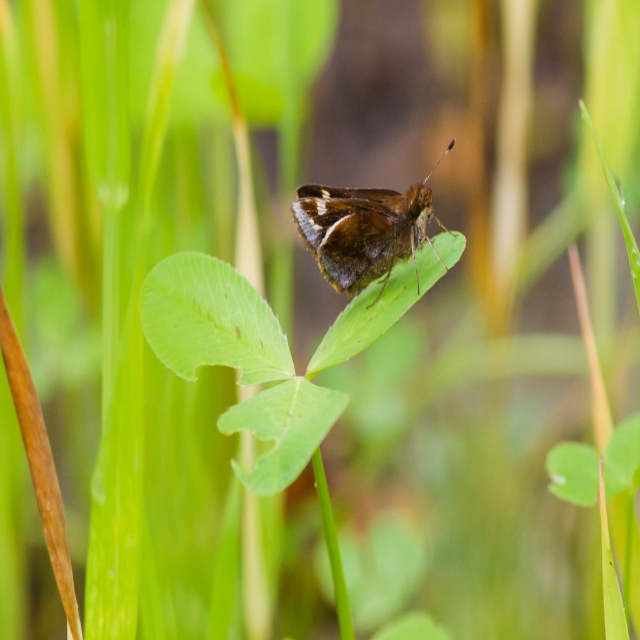Butterfly: (292, 138, 460, 309)
